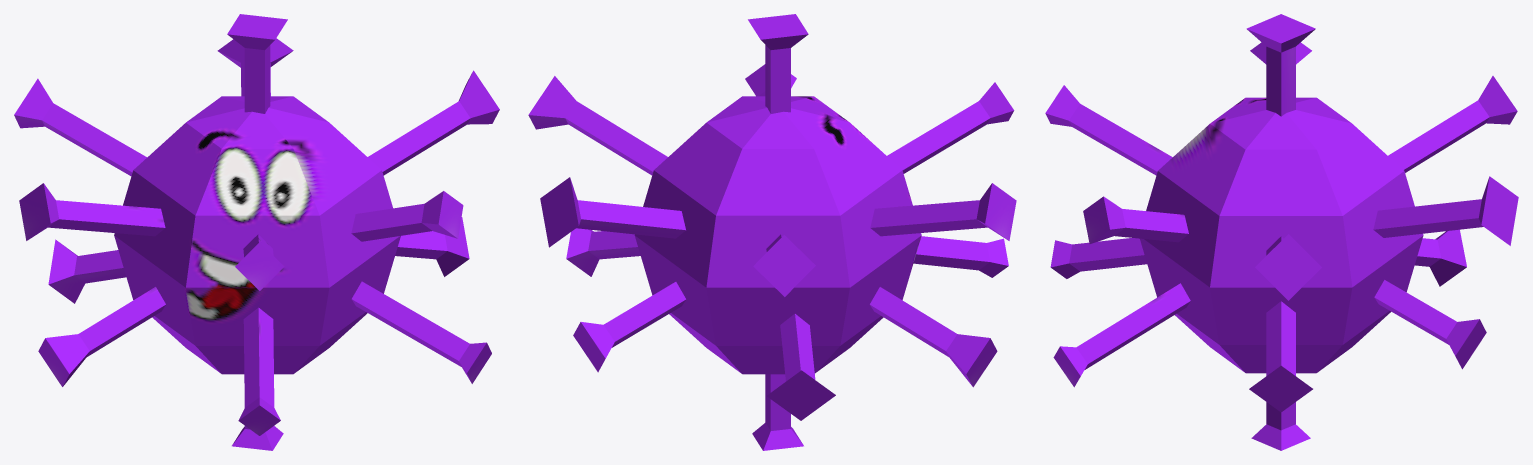
The model's file is coronavirus.fbx.
The picture shows the model from 3 angles, left to right: view 1: azimuth 30°, elevation 25°; view 2: azimuth 150°, elevation 25°; view 3: azimuth 270°, elevation 25°; orthographic projection.
Visible parts, largest first — view 1: Corona_Virus; view 2: Corona_Virus; view 3: Corona_Virus.
Boxes of the visible parts, left/top/right/bottom form: Corona_Virus: left=14, top=14, right=499, bottom=450; Corona_Virus: left=528, top=14, right=1016, bottom=450; Corona_Virus: left=1045, top=14, right=1518, bottom=450.
Size of the model in its own units: 3.78 by 3.17 by 3.33.
